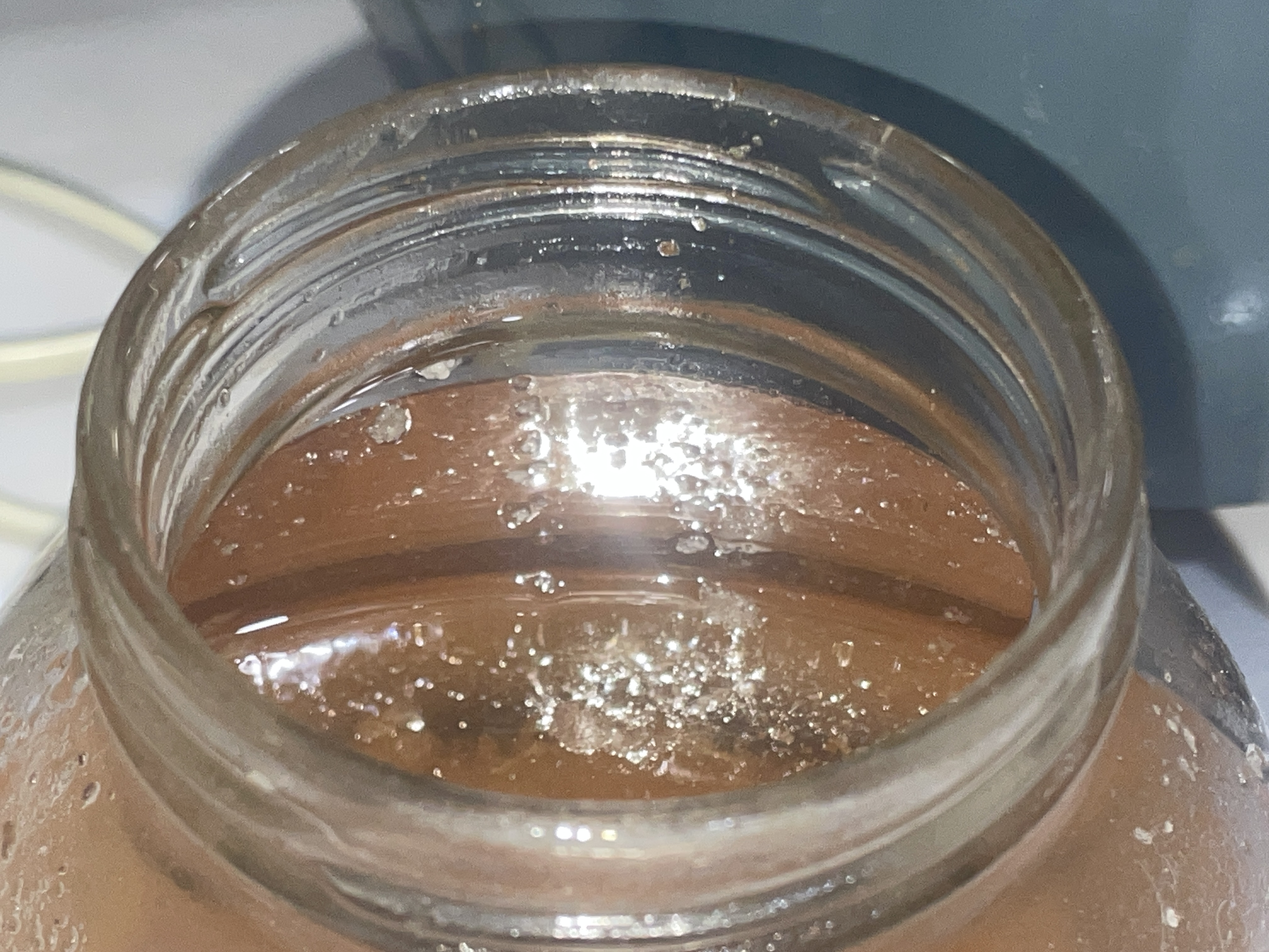non-reusable: (176, 368, 1039, 800)
